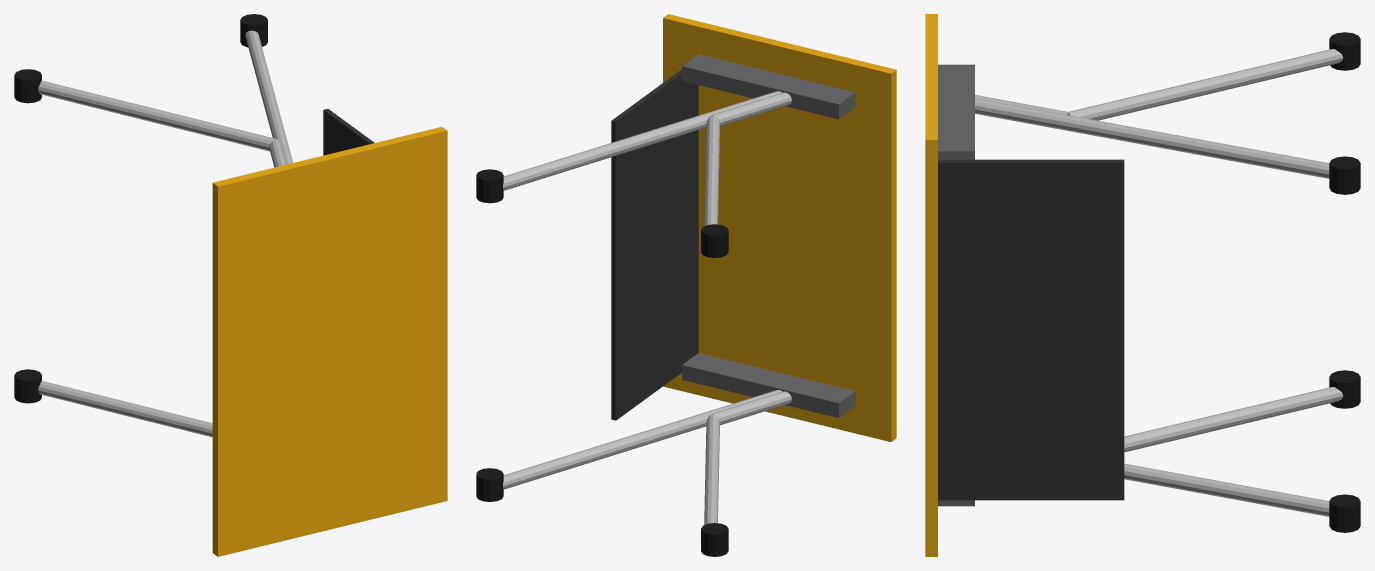
File: nil_link_mesh.dae
The picture shows the model from 3 angles, left to right: view 1: azimuth 30°, elevation 25°; view 2: azimuth 150°, elevation 25°; view 3: azimuth 270°, elevation 25°; orthographic projection. The views are drawn at different scales.
Visible parts, largest first — view 1: nil_link (×8); view 2: nil_link (×14); view 3: nil_link (×12).
Boxes of the visible parts, left/top/right/bottom form: nil_link (×8): left=14, top=14, right=447, bottom=556; nil_link (×14): left=476, top=14, right=896, bottom=556; nil_link (×12): left=925, top=14, right=1360, bottom=556.
Bounding box in the file's own units: 0.5225 × 0.74 × 0.7.
